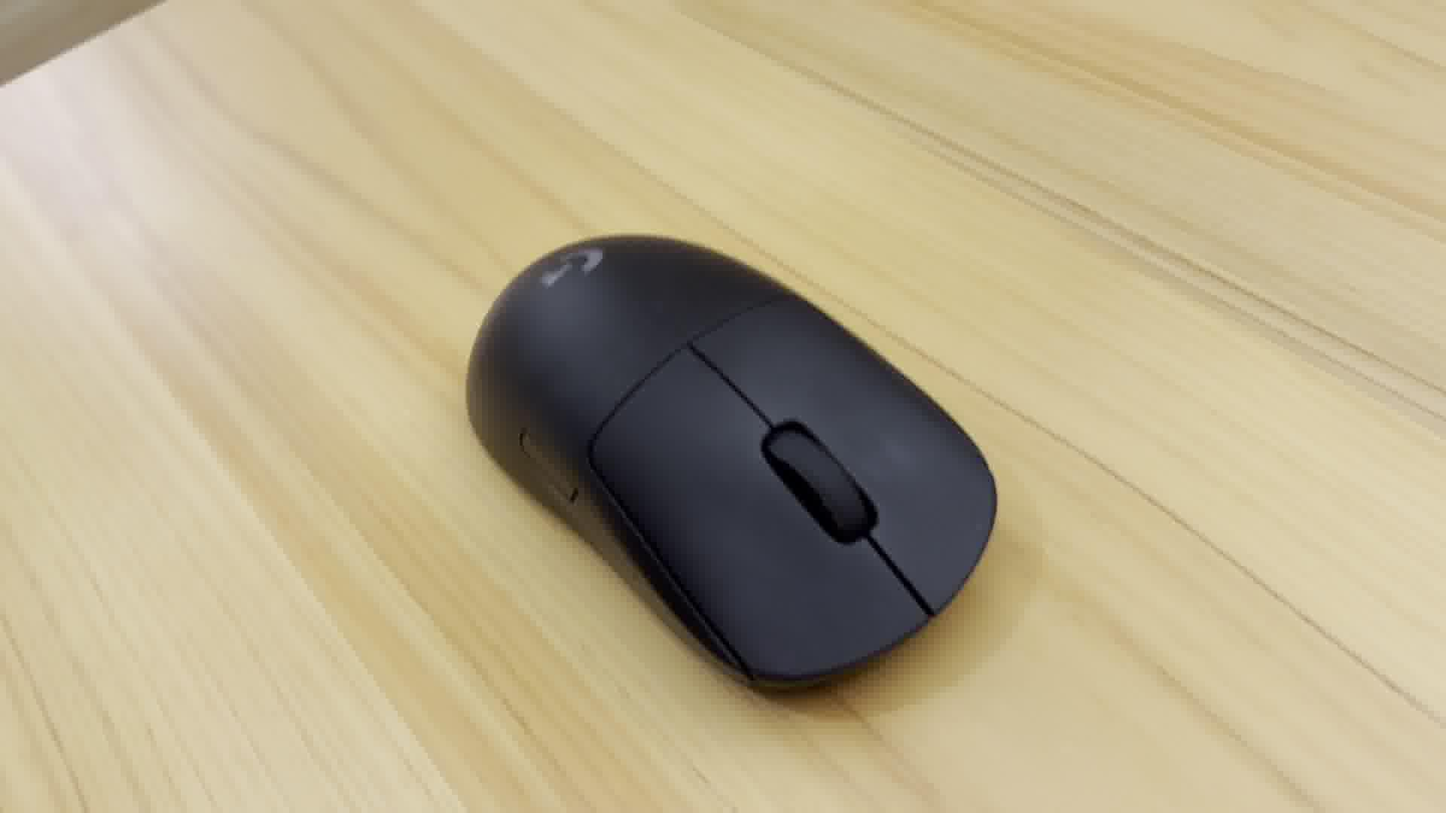mouse: (449, 220, 1014, 708)
